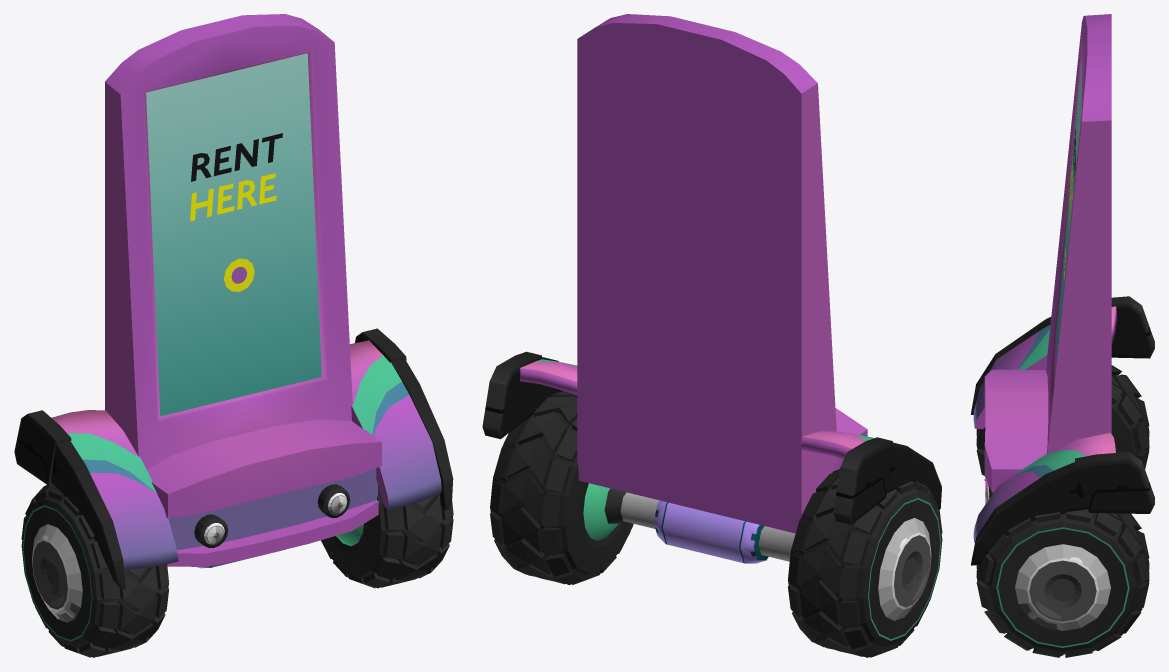
File: VE_Kiosk_003.FBX
3 renders of one model, left to right at view 1: azimuth 30°, elevation 25°; view 2: azimuth 150°, elevation 25°; view 3: azimuth 270°, elevation 25°, orthographic. The views are drawn at different scales.
Parts seen in each view (by area): view 1: VE_Kiosk_003, Screen; view 2: VE_Kiosk_003; view 3: VE_Kiosk_003, Screen.
Part boxes in pixels (x1=…): VE_Kiosk_003: x1=14, y1=14, x2=453, y2=657; Screen: x1=146, y1=53, x2=321, y2=416; VE_Kiosk_003: x1=482, y1=14, x2=942, y2=657; VE_Kiosk_003: x1=971, y1=14, x2=1154, y2=657; Screen: x1=1056, y1=59, x2=1081, y2=362.
Bounding box in the file's own units: 81.1 × 118 × 36.22.
